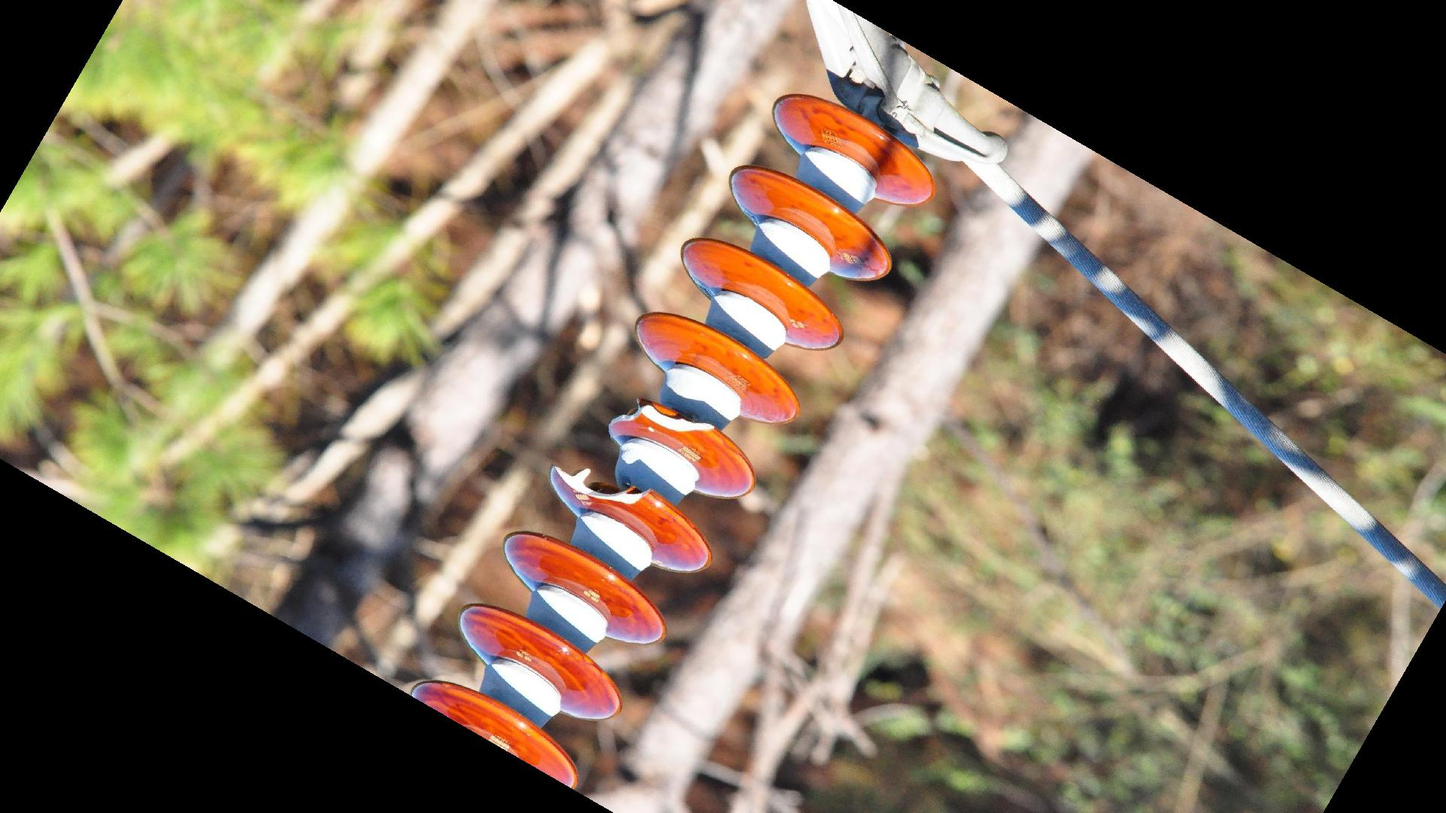insulator: (402, 86, 944, 796)
insulator_breakage: (602, 392, 721, 449), (545, 457, 660, 513)
